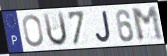6: (115, 8, 135, 43)
7: (67, 10, 86, 47)
J: (94, 10, 112, 44)
M: (130, 5, 165, 43)
O: (22, 14, 45, 49)
U: (41, 11, 69, 48)
